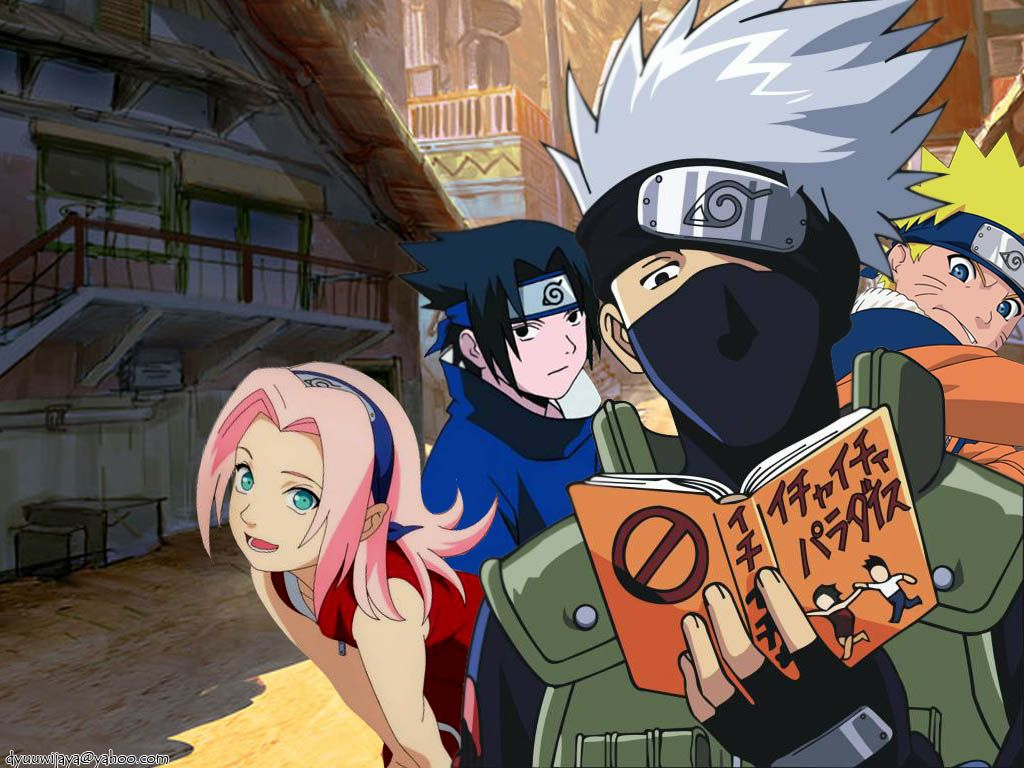kakashi: (575, 158, 864, 450)
naruto: (886, 206, 1024, 355)
sakura: (220, 367, 396, 579)
sasuke: (452, 269, 592, 405)
